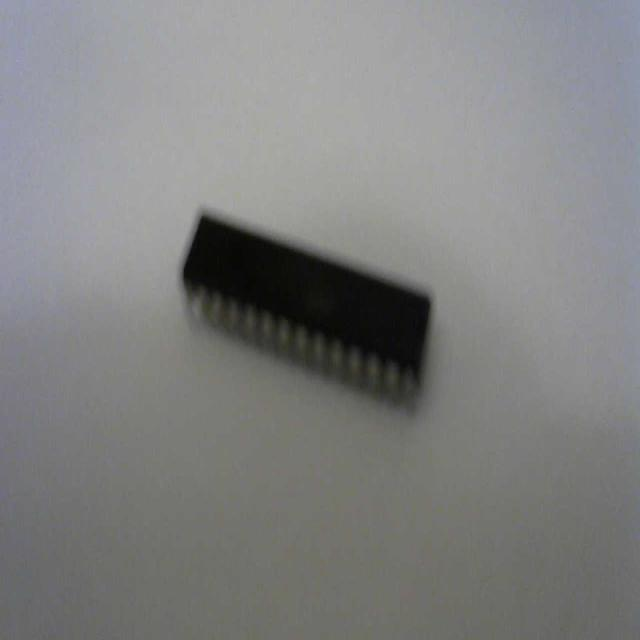atmega: (178, 204, 434, 414)
